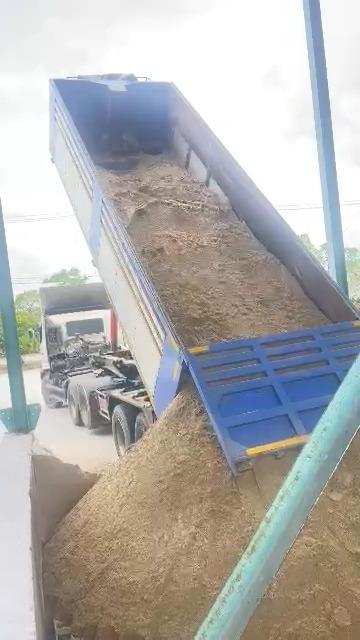sand: (46, 388, 294, 637), (103, 157, 329, 345), (246, 438, 360, 639), (32, 443, 110, 543)
